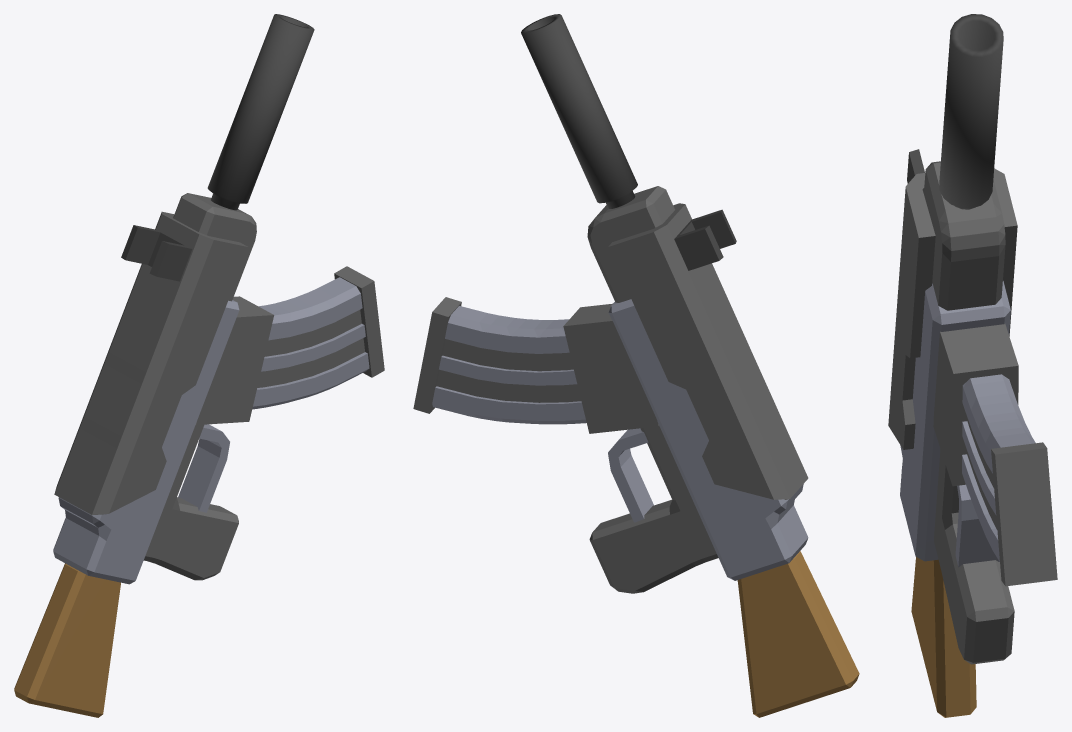
3 views of the same model, side by side, from view 1: azimuth 30°, elevation 25°; view 2: azimuth 150°, elevation 25°; view 3: azimuth 270°, elevation 25° (orthographic). The views are drawn at different scales.
Visible parts, largest first — view 1: AK; view 2: AK; view 3: AK.
Part boxes in pixels (<box>): AK: <box>14,14,384,717</box>; AK: <box>413,14,859,717</box>; AK: <box>888,14,1057,717</box>.
Bounding box in the file's own units: 0.8819 × 1.37 × 0.2558.
